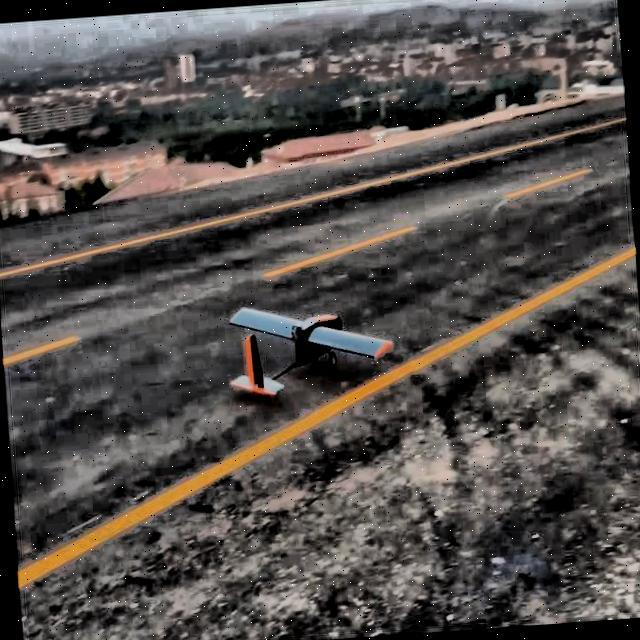iha: (203, 276, 416, 421)
